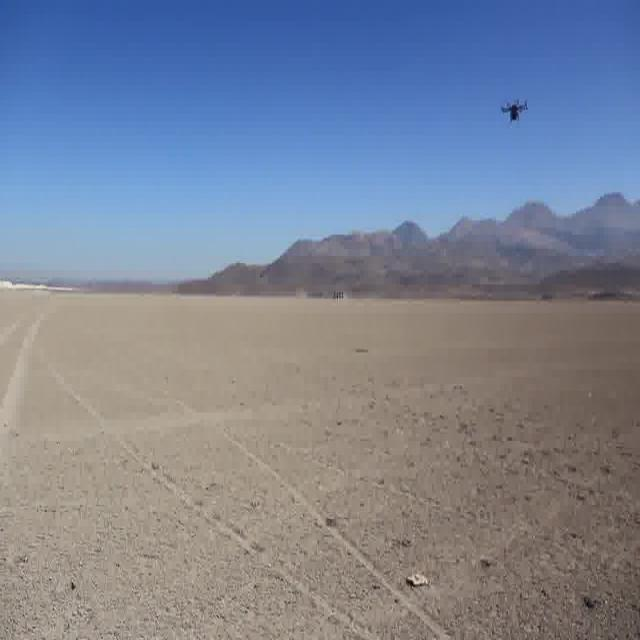drones: (495, 84, 532, 134)
